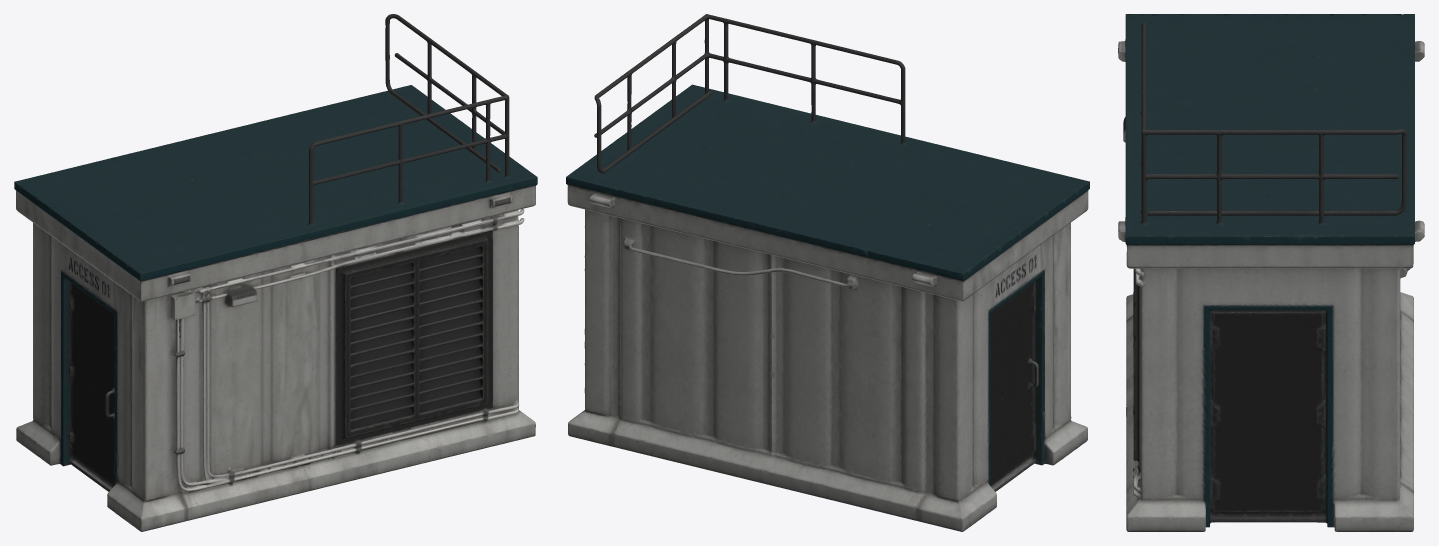
Rendered from Meshy_AI_Access_01_1023111046_texture.glb.
3 renders of one model, left to right at view 1: azimuth 30°, elevation 25°; view 2: azimuth 150°, elevation 25°; view 3: azimuth 270°, elevation 25°, orthographic. The views are drawn at different scales.
Bounding box in the file's own units: 1.9 × 1.56 × 1.11.
1 material, 1 textured.
